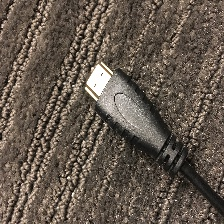hdmi_male: (73, 79, 155, 169)
